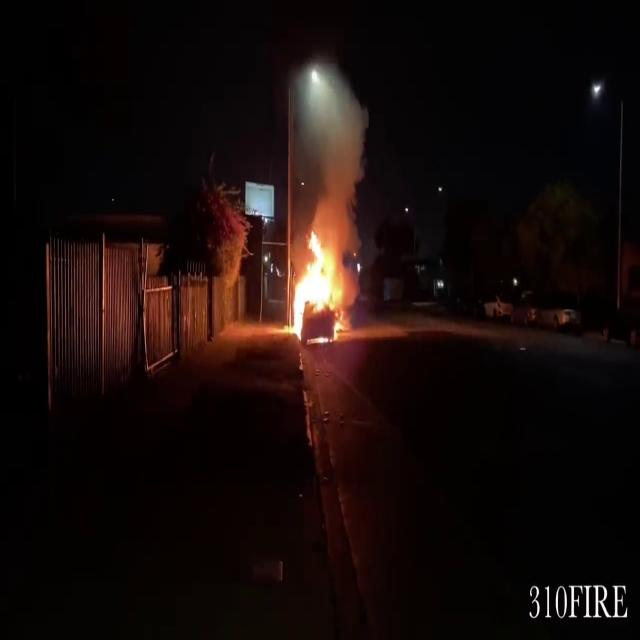Fire: (286, 227, 351, 343)
Smoke: (299, 75, 371, 231)
